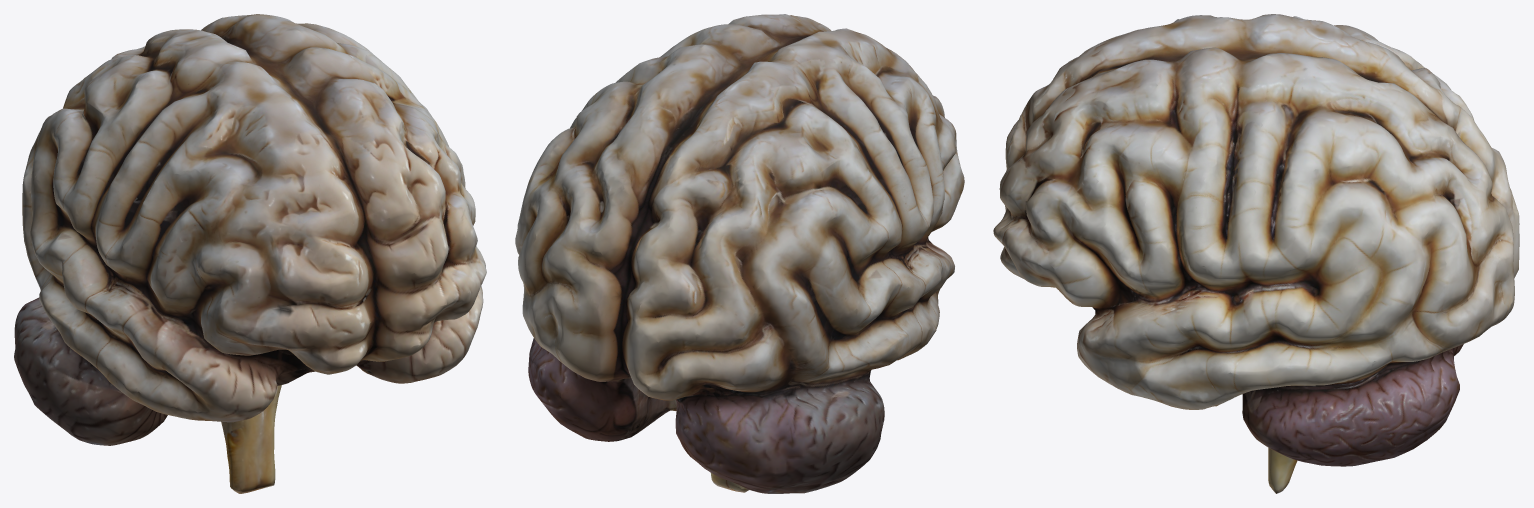
Rendered from brain.glb.
3 views of the same model, side by side, from view 1: azimuth 30°, elevation 25°; view 2: azimuth 150°, elevation 25°; view 3: azimuth 270°, elevation 25° (orthographic). The views are drawn at different scales.
Size of the model in its own units: 0.9623 by 1.13 by 1.2.
Materials: 1 (1 with a texture image).
